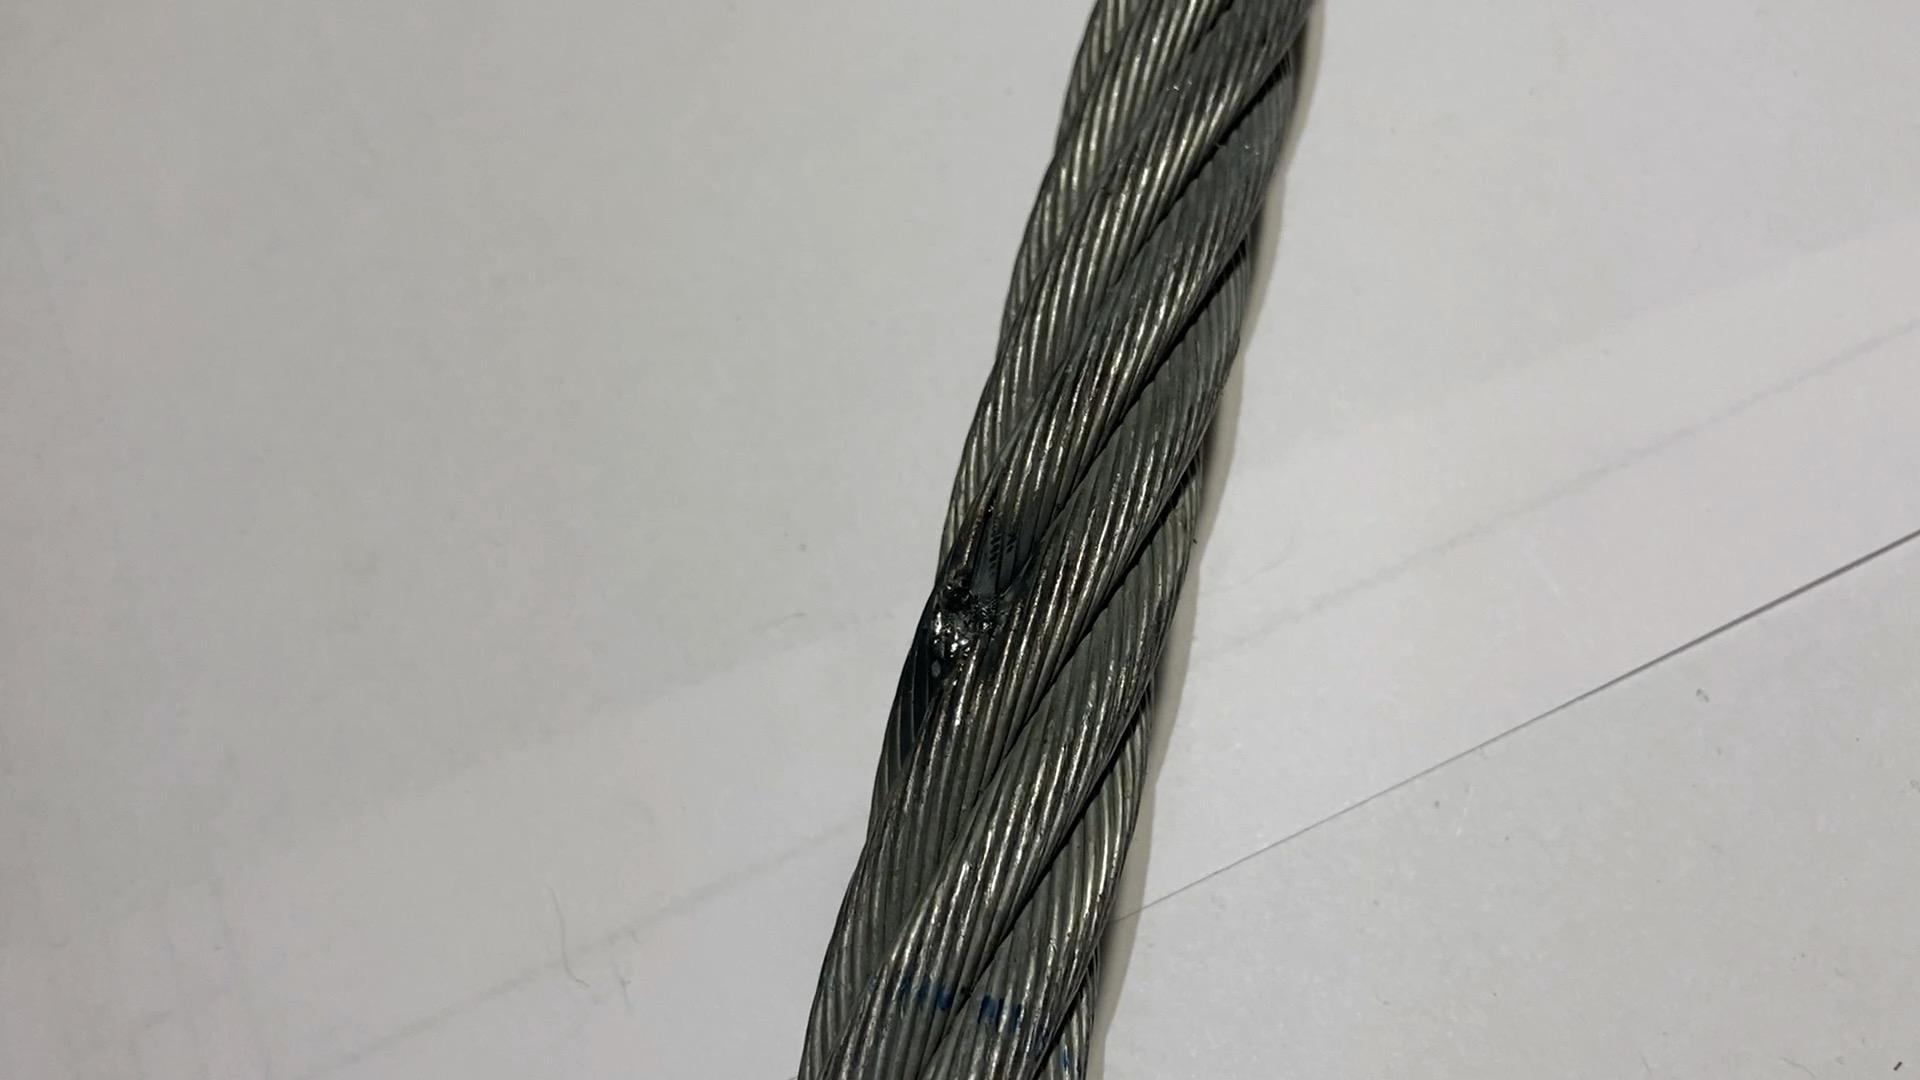thunderbolt: (905, 550, 1011, 676)
